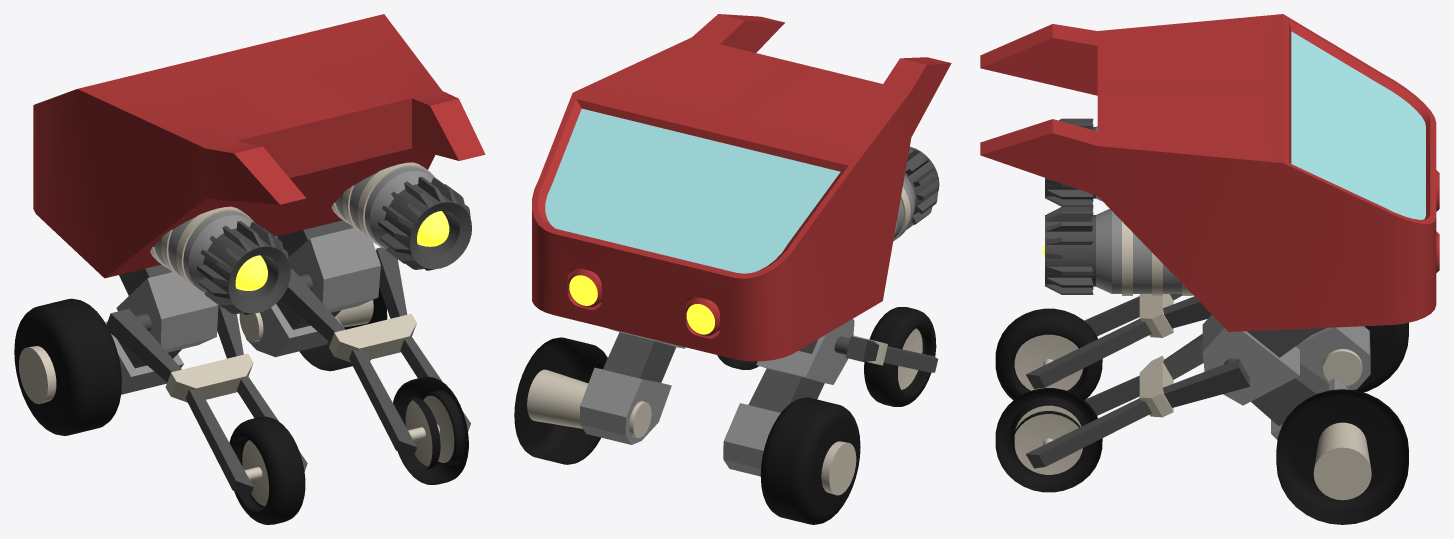
File: roboPlayer2.gltf
The picture shows the model from 3 angles, left to right: view 1: azimuth 30°, elevation 25°; view 2: azimuth 150°, elevation 25°; view 3: azimuth 270°, elevation 25°; orthographic projection. The views are drawn at different scales.
Parts seen in each view (by area): view 1: Robo; view 2: Robo; view 3: Robo.
Part boxes in pixels (x1,y1,x2,y2): Robo: (14,14,485,524); Robo: (514,14,951,524); Robo: (980,14,1439,524).
Size of the model in its own units: 2.7 by 2.89 by 3.22.
